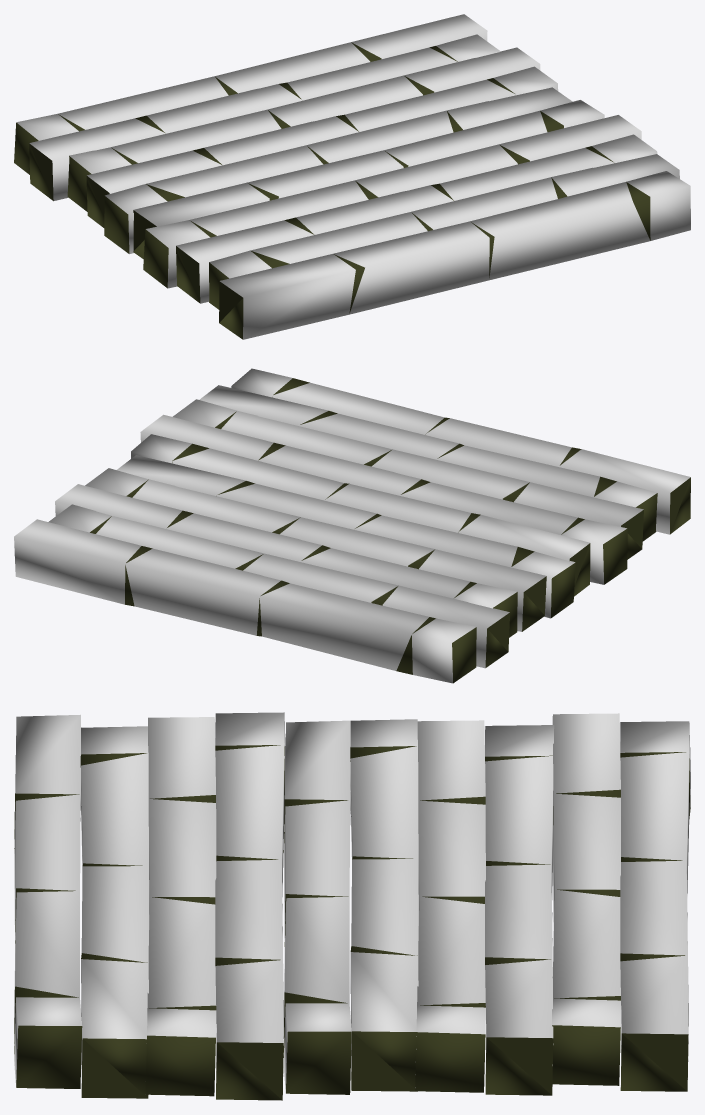
The model's file is bamboo_chairSeat.glb.
3 renders of one model, top to bottom at view 1: azimuth 30°, elevation 25°; view 2: azimuth 150°, elevation 25°; view 3: azimuth 270°, elevation 25°, orthographic. The views are drawn at different scales.
Parts seen in each view (by area): view 1: bambooBranch, bambooBranch.003, bambooBranch.008, bambooBranch.005, bambooBranch.002, bambooBranch.007, bambooBranch.009, bambooBranch.004, bambooBranch.001, bambooBranch.006; view 2: bambooBranch.009, bambooBranch.003, bambooBranch, bambooBranch.008, bambooBranch.006, bambooBranch.002, bambooBranch.004, bambooBranch.005, bambooBranch.007, bambooBranch.001; view 3: bambooBranch.003, bambooBranch.002, bambooBranch.009, bambooBranch.006, bambooBranch.008, bambooBranch.007, bambooBranch.005, bambooBranch.001, bambooBranch.004, bambooBranch.
Boxes of the visible parts, box(x1,y1,x2,y2) form: bambooBranch: box(219, 171, 690, 339); bambooBranch.003: box(143, 115, 641, 288); bambooBranch.008: box(29, 34, 500, 201); bambooBranch.005: box(104, 87, 572, 254); bambooBranch.002: box(176, 134, 657, 303); bambooBranch.007: box(67, 47, 540, 211); bambooBranch.009: box(14, 14, 487, 174); bambooBranch.004: box(133, 100, 604, 258); bambooBranch.001: box(209, 154, 679, 309); bambooBranch.006: box(86, 66, 558, 227); bambooBranch.009: box(14, 519, 476, 683); bambooBranch.003: box(140, 414, 627, 584); bambooBranch: box(231, 368, 690, 534); bambooBranch.008: box(48, 504, 510, 668); bambooBranch.006: box(85, 468, 546, 631); bambooBranch.002: box(172, 399, 643, 559); bambooBranch.004: box(131, 434, 590, 596); bambooBranch.005: box(116, 455, 575, 618); bambooBranch.007: box(55, 484, 517, 637); bambooBranch.001: box(199, 385, 657, 541); bambooBranch.003: box(215, 712, 285, 1100); bambooBranch.002: box(145, 717, 216, 1096); bambooBranch.009: box(620, 721, 690, 1091); bambooBranch.006: box(415, 720, 485, 1092); bambooBranch.008: box(552, 713, 621, 1085); bambooBranch.007: box(485, 725, 554, 1095); bambooBranch.005: box(350, 719, 418, 1091); bambooBranch.001: box(80, 726, 149, 1098); bambooBranch.004: box(283, 720, 351, 1094); bambooBranch: box(14, 714, 82, 1088).
Size of the model in its own units: 0.4539 by 0.0412 by 0.3927.
